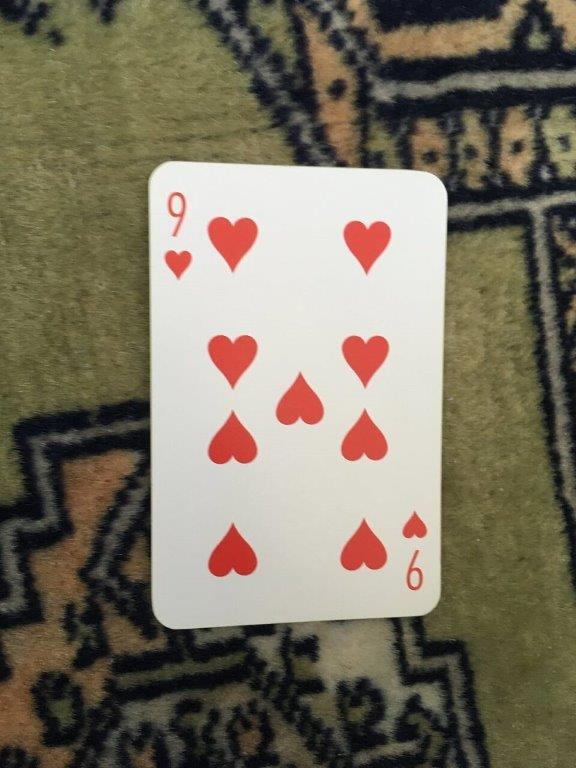9H: (144, 157, 453, 635)
